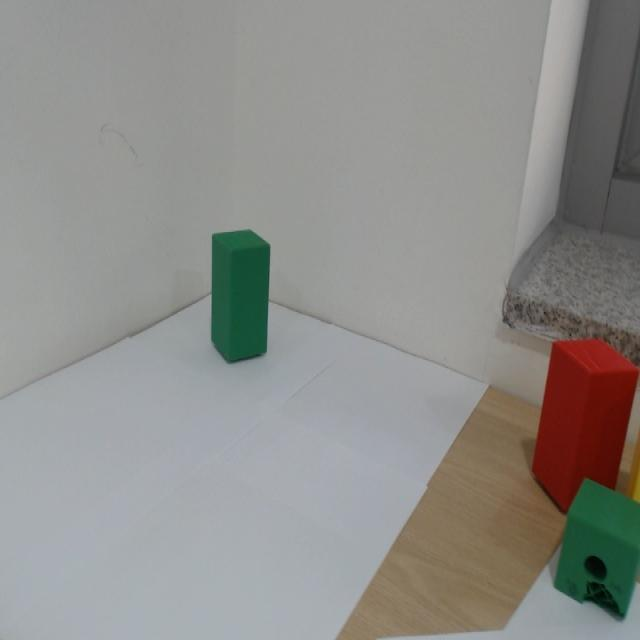cube: (184, 155, 305, 407)
